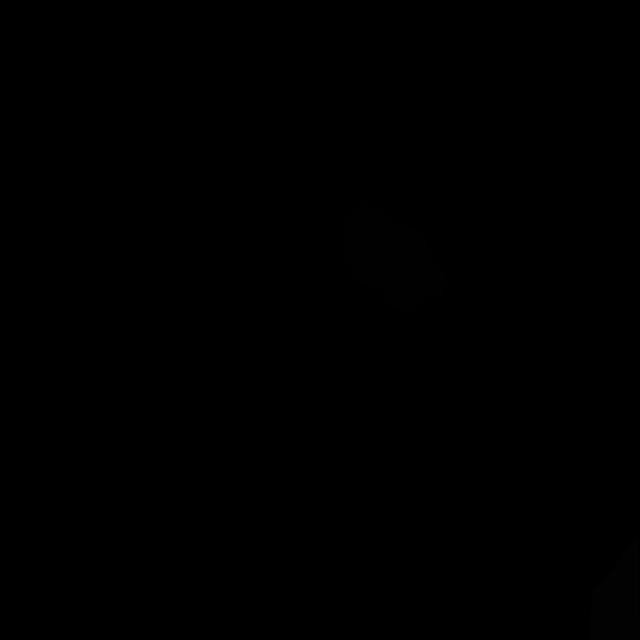cardboard: (590, 535, 640, 640)
rigid_plastic: (344, 200, 446, 311)
